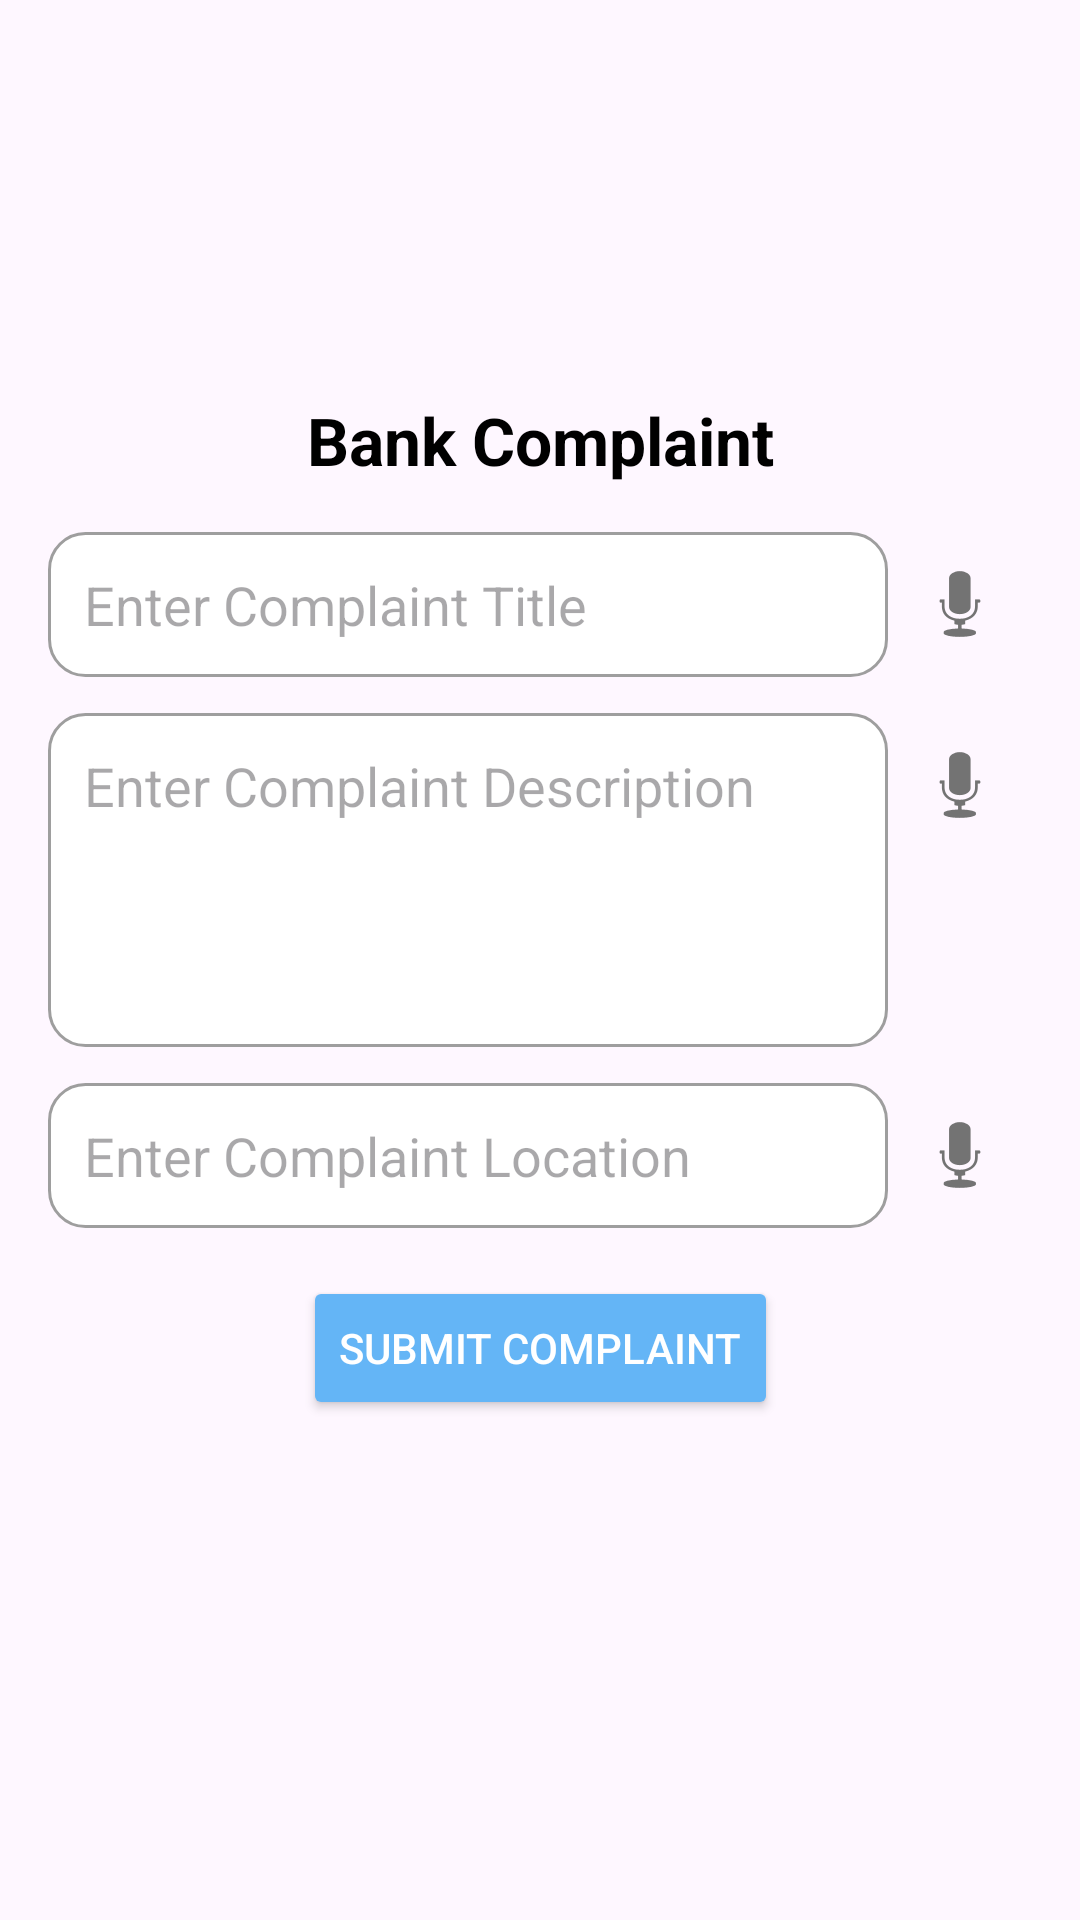

Point at icon controls on the screen. Image size 1080 x 1920, points as point (x, y).
Voice input for description: point (960, 785)
Voice input for location: point (960, 1155)
Voice input for title: point (960, 604)
